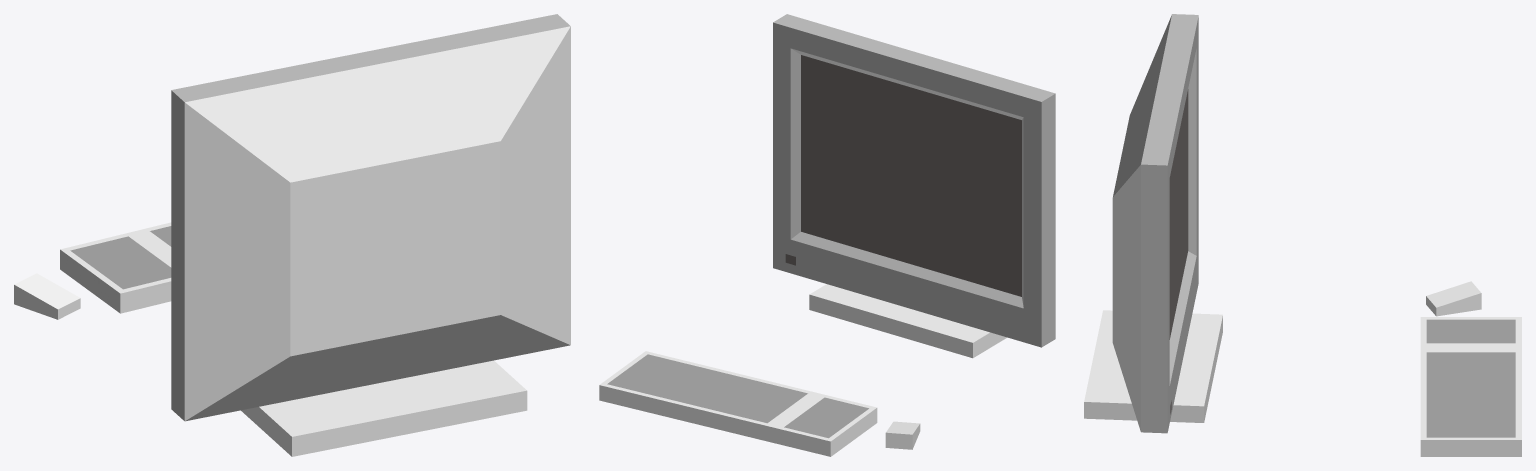
The model's file is SM_Comp_01.FBX.
The picture shows the model from 3 angles, left to right: view 1: azimuth 30°, elevation 25°; view 2: azimuth 150°, elevation 25°; view 3: azimuth 270°, elevation 25°; orthographic projection. The views are drawn at different scales.
Visible parts, largest first — view 1: SM_Comp_01; view 2: SM_Comp_01; view 3: SM_Comp_01.
Part boxes in pixels (x1=…): SM_Comp_01: x1=14, y1=14, x2=570, y2=456; SM_Comp_01: x1=599, y1=14, x2=1055, y2=456; SM_Comp_01: x1=1084, y1=14, x2=1521, y2=456.
Bounding box in the file's own units: 67.27 × 79.03 × 56.95.
